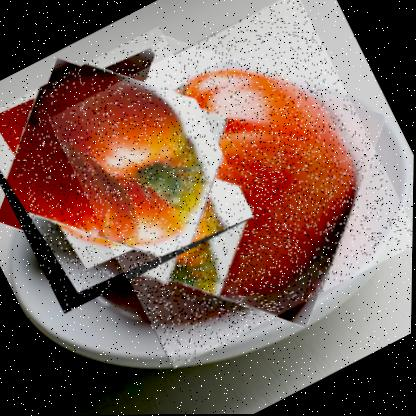tomato: (45, 0, 415, 372), (0, 24, 258, 316)
